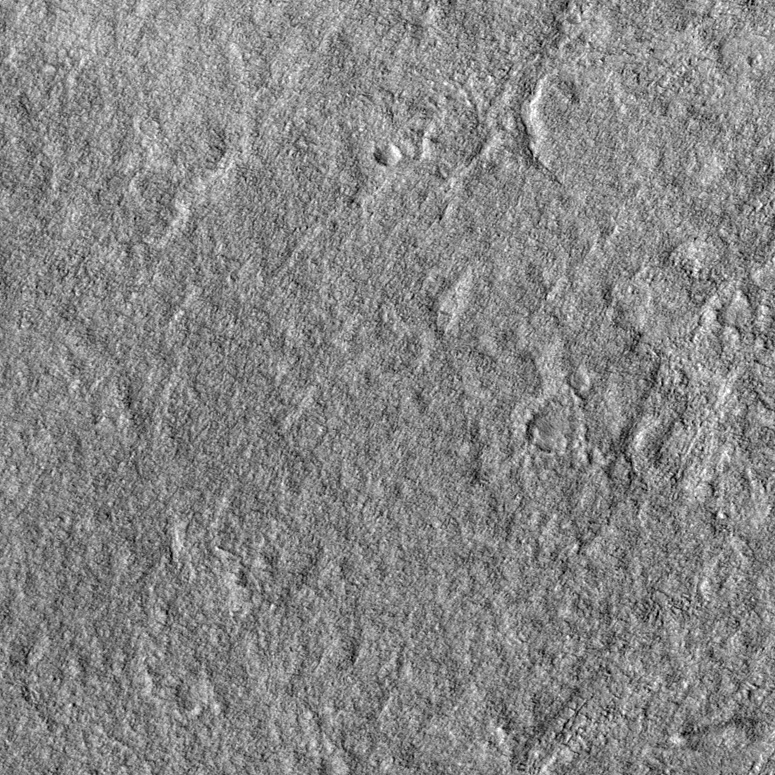dust_devil: (668, 715, 760, 747)
